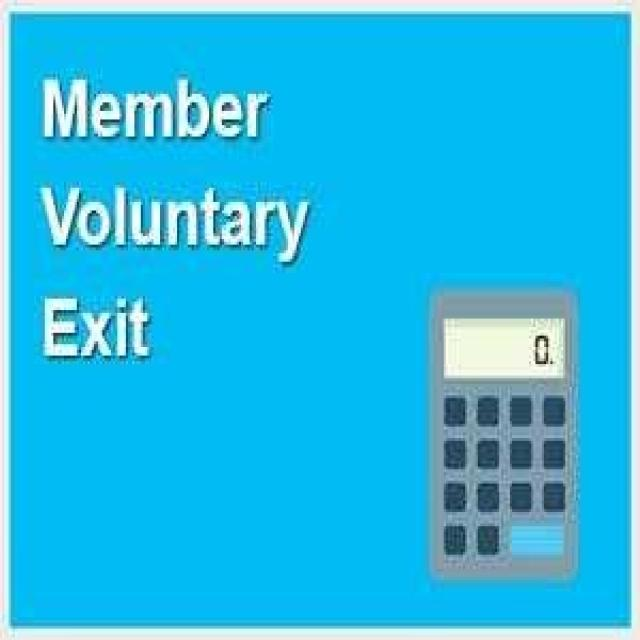Calculator: (429, 284, 578, 580)
